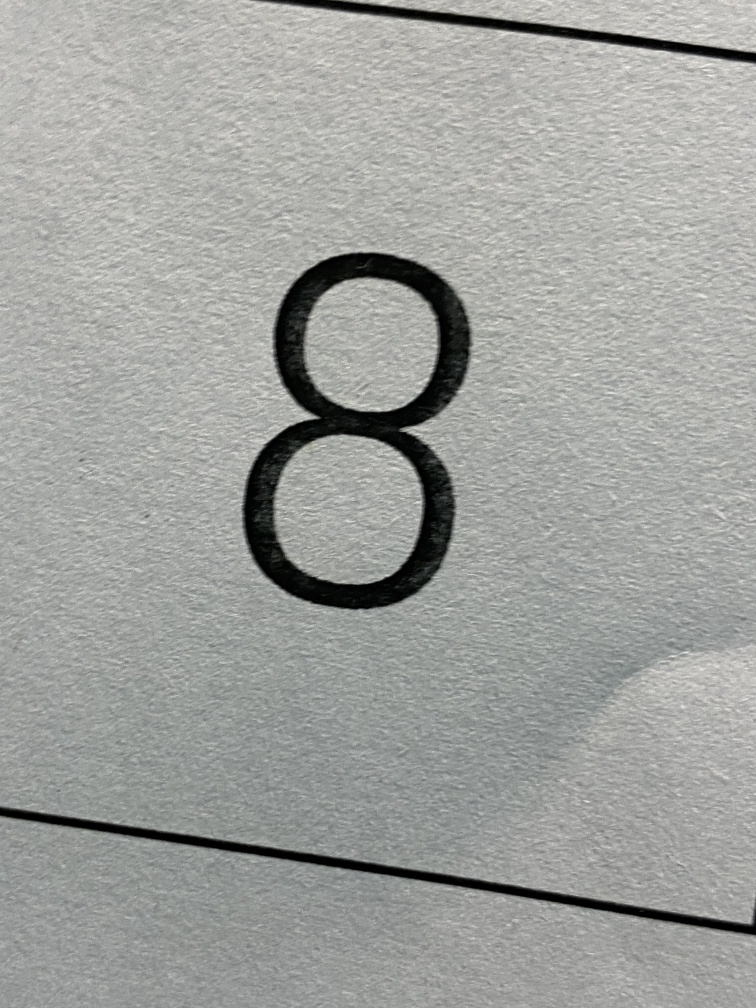eight: (179, 196, 564, 689)
